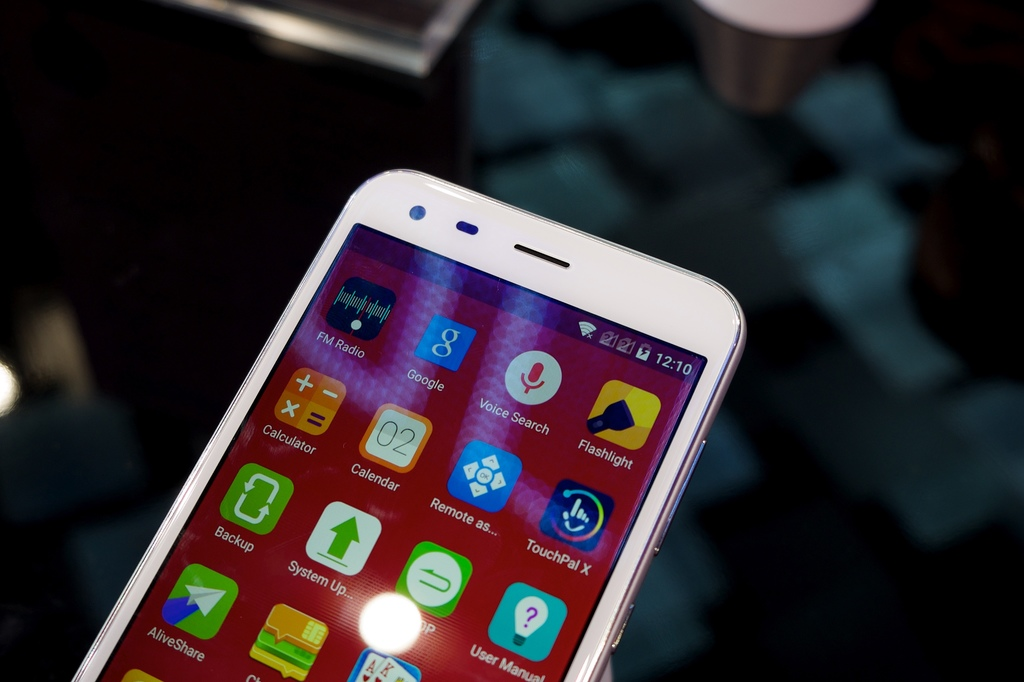Mobile-phone: (65, 160, 749, 682)
